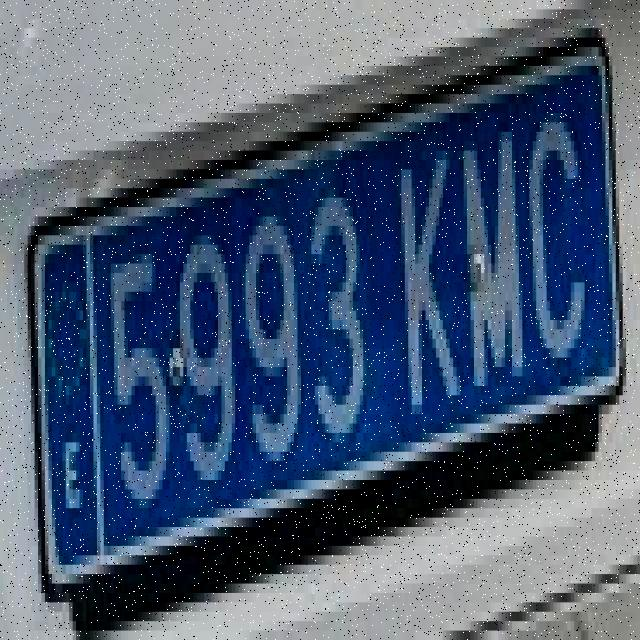licenseplate: (28, 46, 626, 594)
